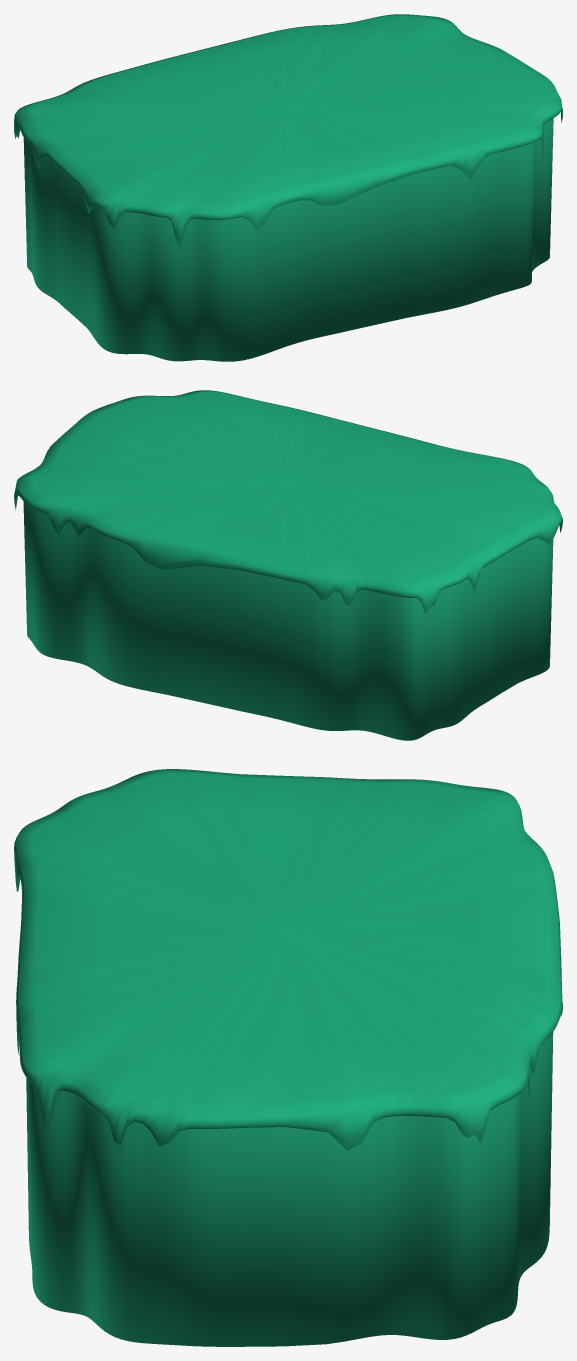
The model's file is jelly-mesa.glb.
3 views of the same model, one above another, from view 1: azimuth 30°, elevation 25°; view 2: azimuth 150°, elevation 25°; view 3: azimuth 270°, elevation 25° (orthographic). The views are drawn at different scales.
Parts seen in each view (by area): view 1: Poured icing and drips, Baked layer; view 2: Poured icing and drips, Baked layer; view 3: Poured icing and drips, Baked layer.
Boxes of the visible parts, x1,y1,x2,y2 form: Poured icing and drips: (14, 14, 562, 247); Baked layer: (23, 118, 553, 361); Poured icing and drips: (14, 390, 562, 614); Baked layer: (23, 502, 553, 740); Poured icing and drips: (14, 769, 562, 1150); Baked layer: (26, 1032, 553, 1346).
Size of the model in its own units: 12.94 by 4.36 by 8.5.
